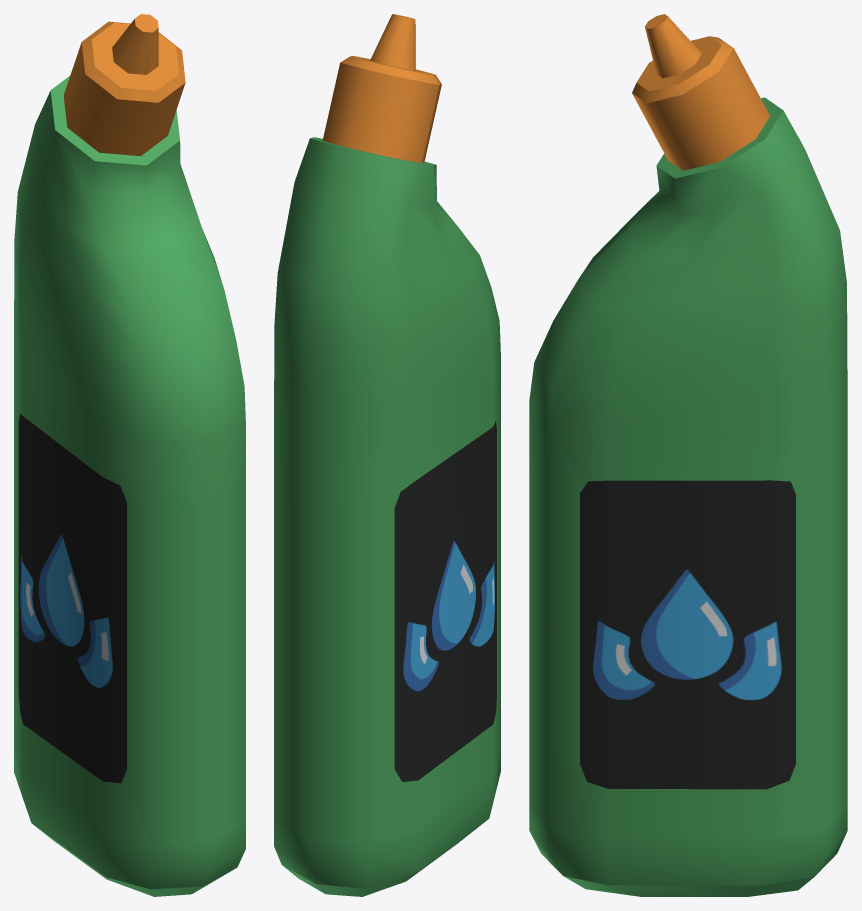
File: PlasticBottle_06.fbx
3 views of the same model, side by side, from view 1: azimuth 30°, elevation 25°; view 2: azimuth 150°, elevation 25°; view 3: azimuth 270°, elevation 25° (orthographic). The views are drawn at different scales.
Visible parts, largest first — view 1: PlasticBottle_06, PlasticBottle_06_Cap; view 2: PlasticBottle_06, PlasticBottle_06_Cap; view 3: PlasticBottle_06, PlasticBottle_06_Cap.
Part boxes in pixels (x1,y1,x2,y2): PlasticBottle_06: (14,76,245,896); PlasticBottle_06_Cap: (63,14,185,156); PlasticBottle_06: (274,137,500,896); PlasticBottle_06_Cap: (322,14,441,162); PlasticBottle_06: (529,97,847,896); PlasticBottle_06_Cap: (632,14,769,170).
Size of the model in its own units: 0.0814 by 0.4736 by 0.1597.
